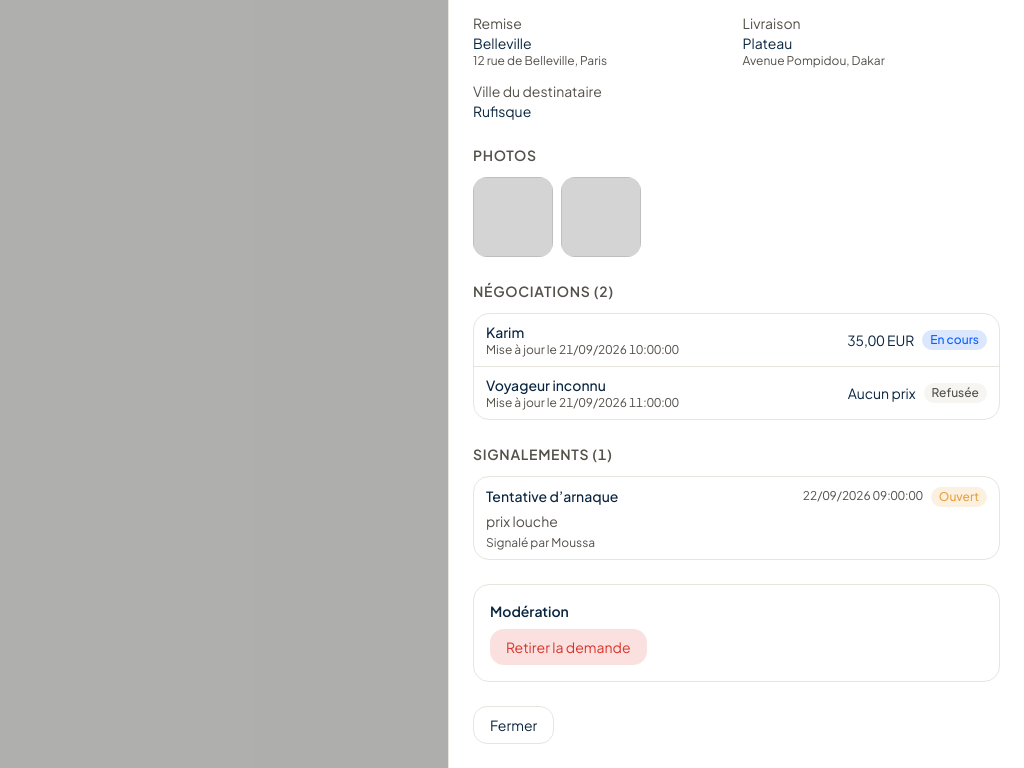
Test: PackageRequestDetailPanel › Retirer › sans négociation ouverte, le dialogue le dit
(page scrolled)
Click the button with test id "pr-remove" at point(568, 647), box [490,629,646,665]
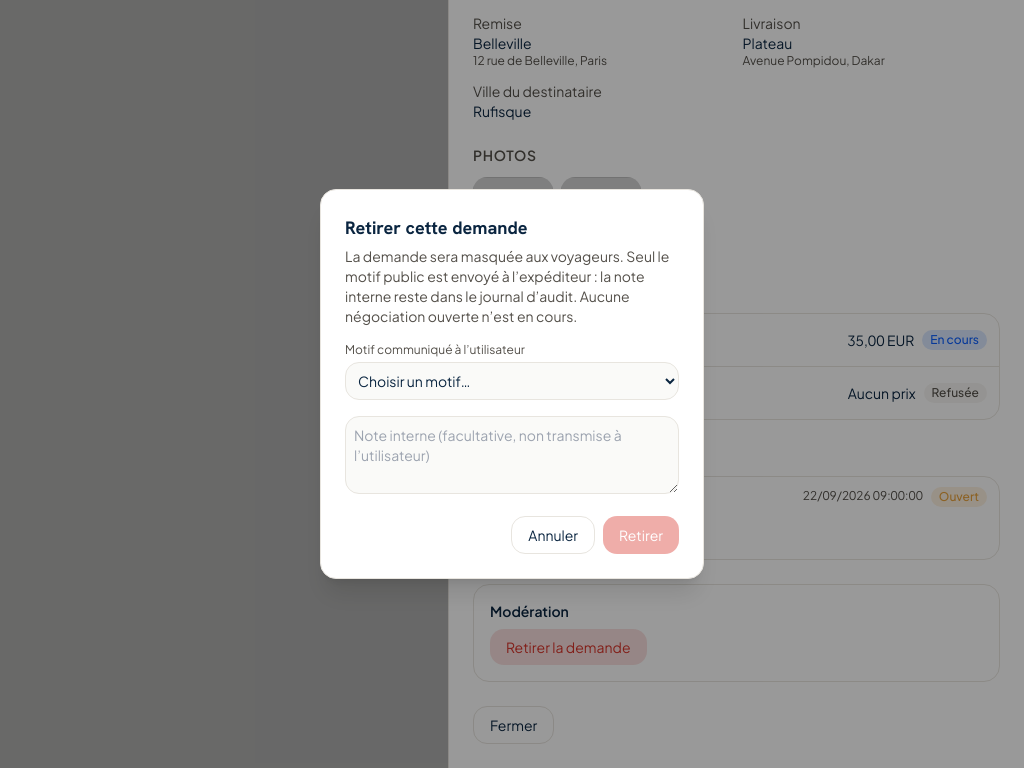
Result: the element with test id "overlay" shows "Aucune négociation ouverte" at [345,247,669,325]
